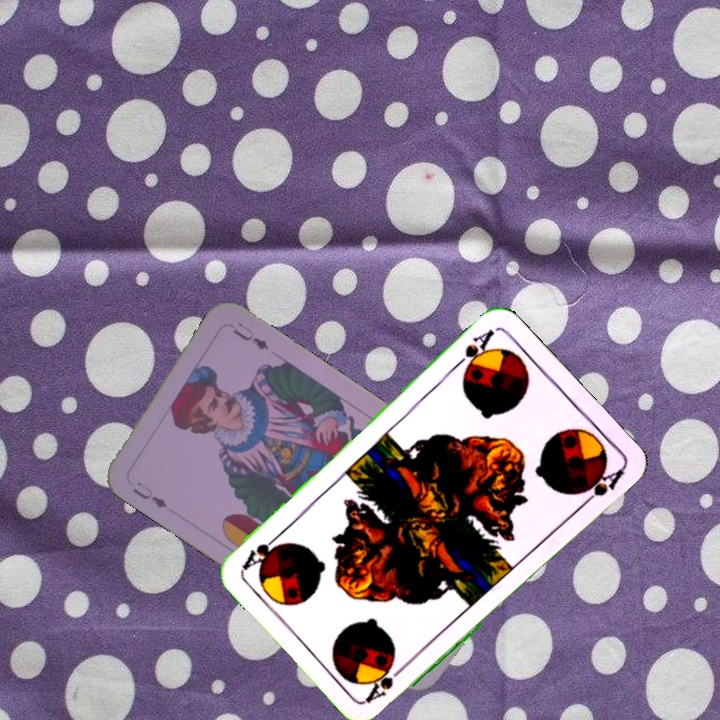EU: (129, 477, 171, 511)
SA: (450, 325, 497, 378), (362, 659, 411, 705)
